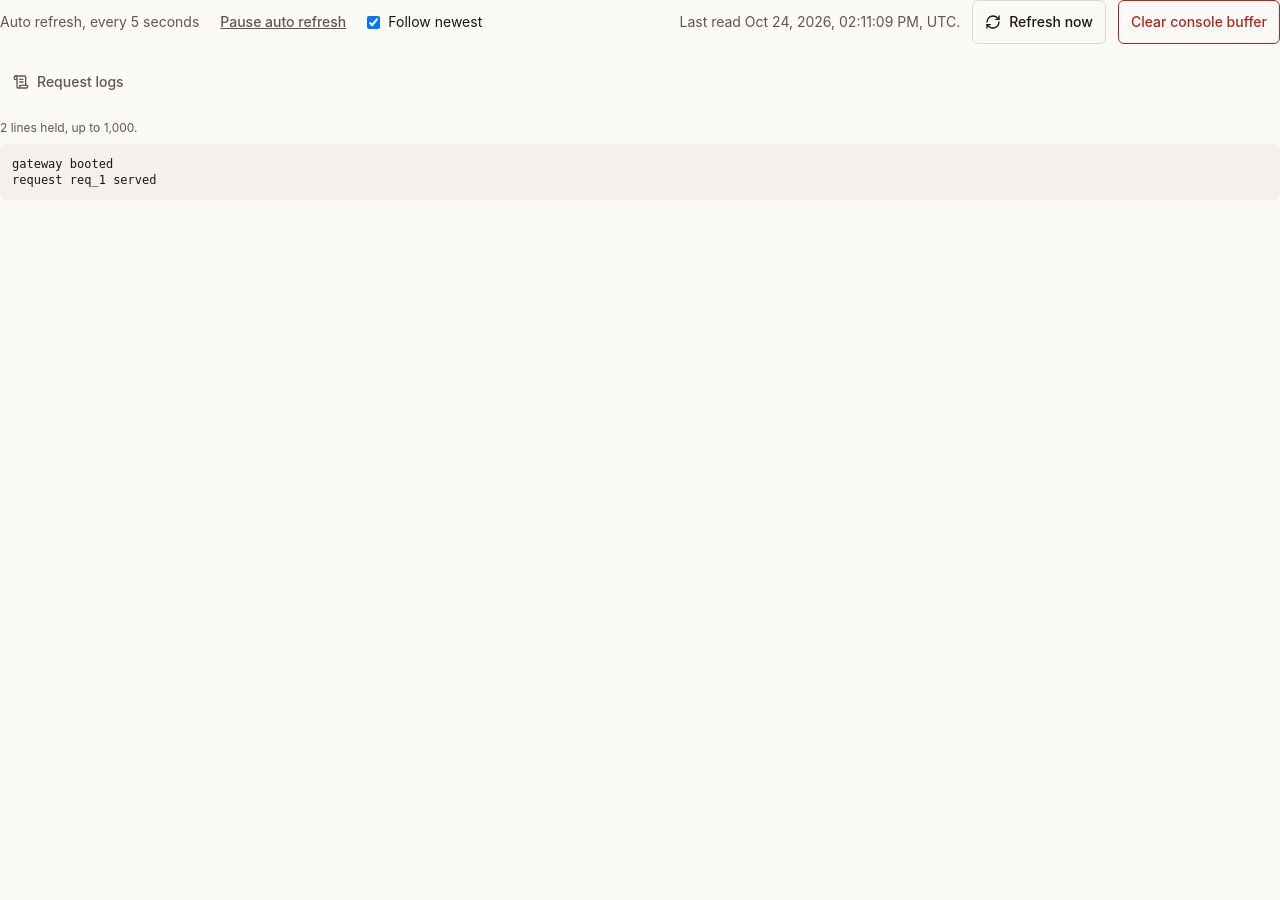
Scenario: ConsoleLog clear › keeps a failed delete in the dialog, and leaves the last buffer on screen
Check: the text "gateway booted request req_1 served" is shown, box [0,144,1279,200]
Click the button "Clear console buffer".
click(1199, 22)  # box [1118,0,1279,44]
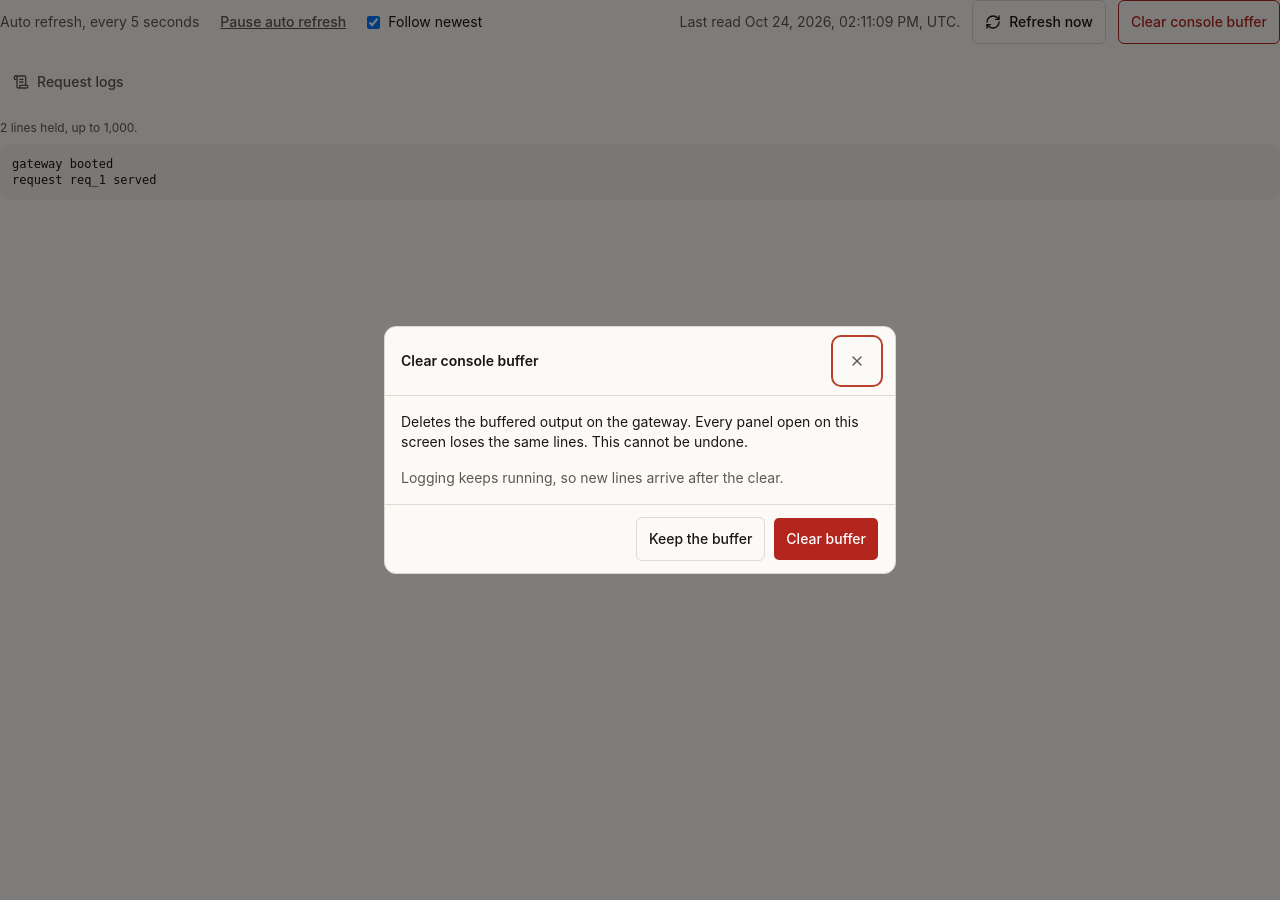
Click the button "Clear buffer".
click(826, 539)  # box [773,517,879,561]
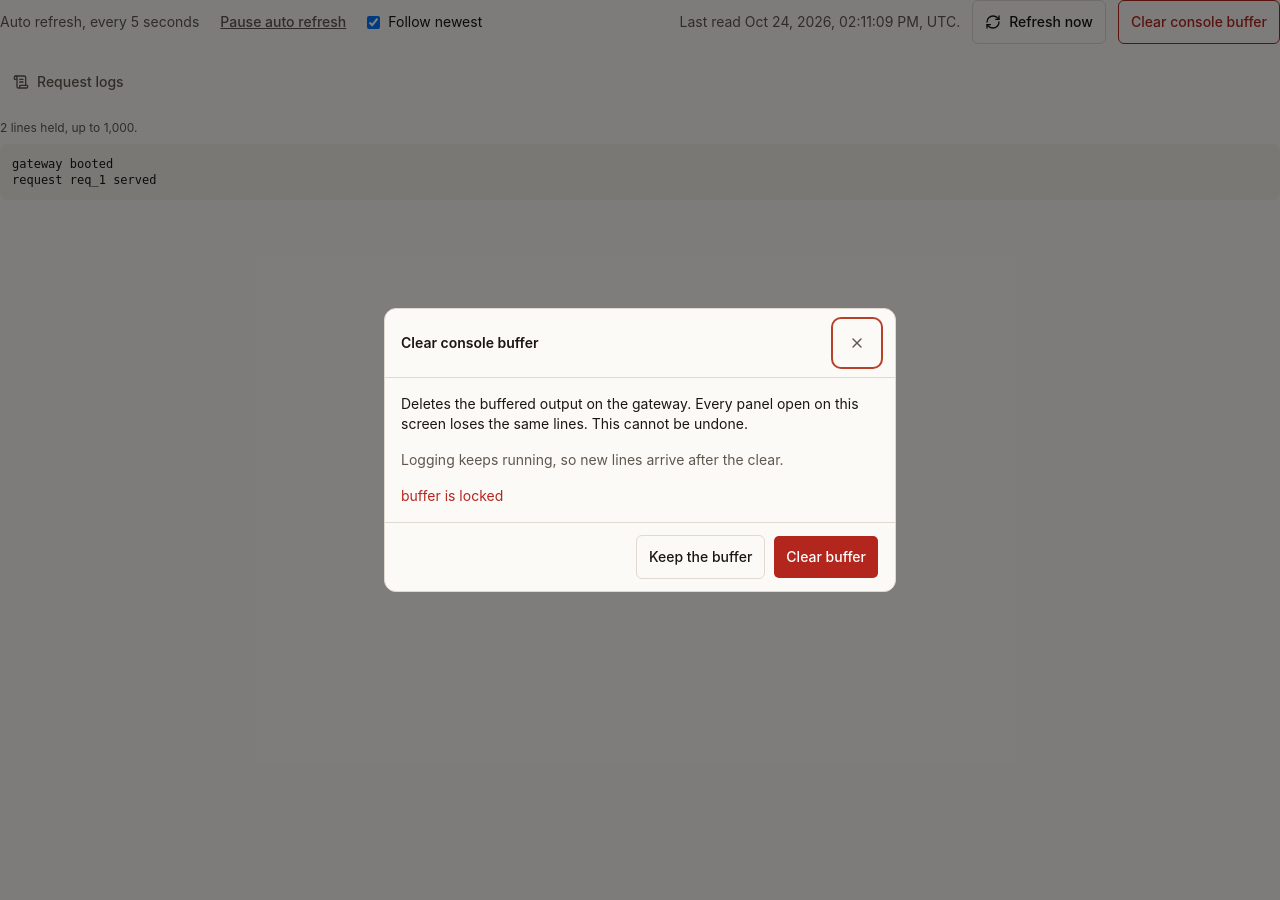
Check: the text "gateway booted request req_1 served" is shown, box [0,144,1279,200]
Check: the text "buffer is locked" is shown, box [401,487,503,504]
